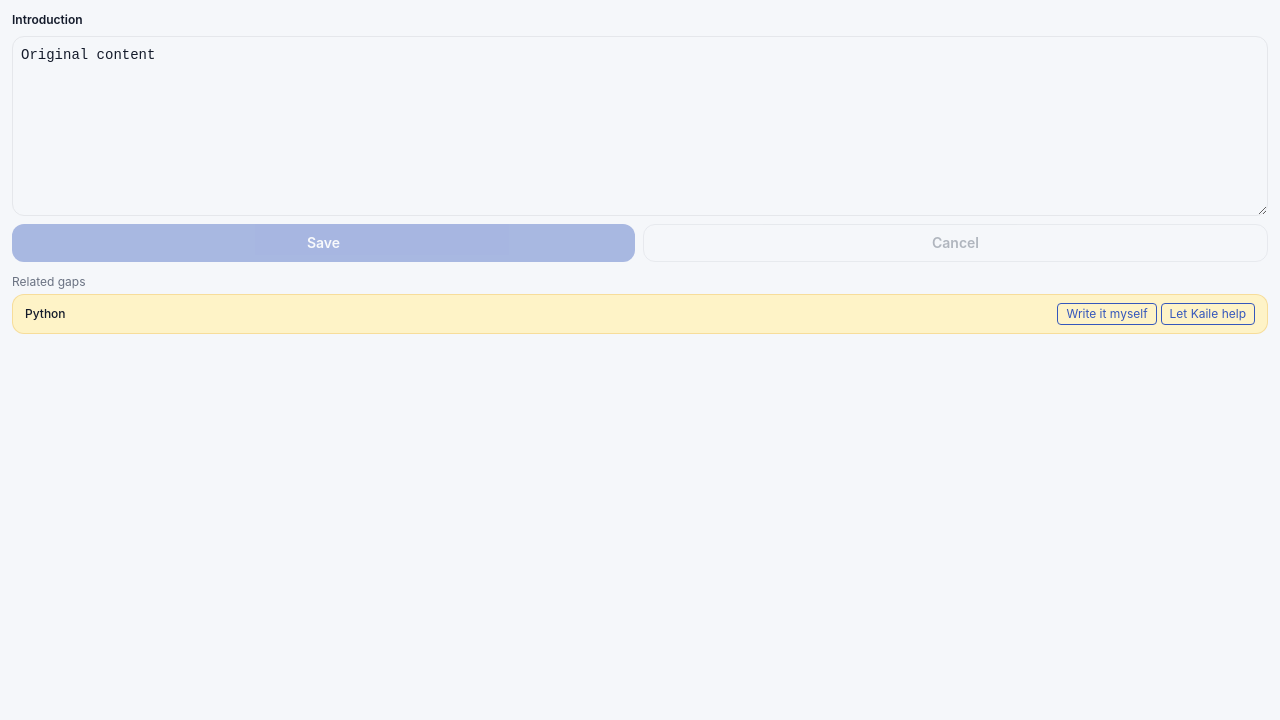
SectionEditor › Save shows scope prompt when no remembered choice
The image size is (1280, 720).
Replace the text in the text box with test id "section-textarea" with "New content" at coordinates (640, 126), box [12,36,1268,216]
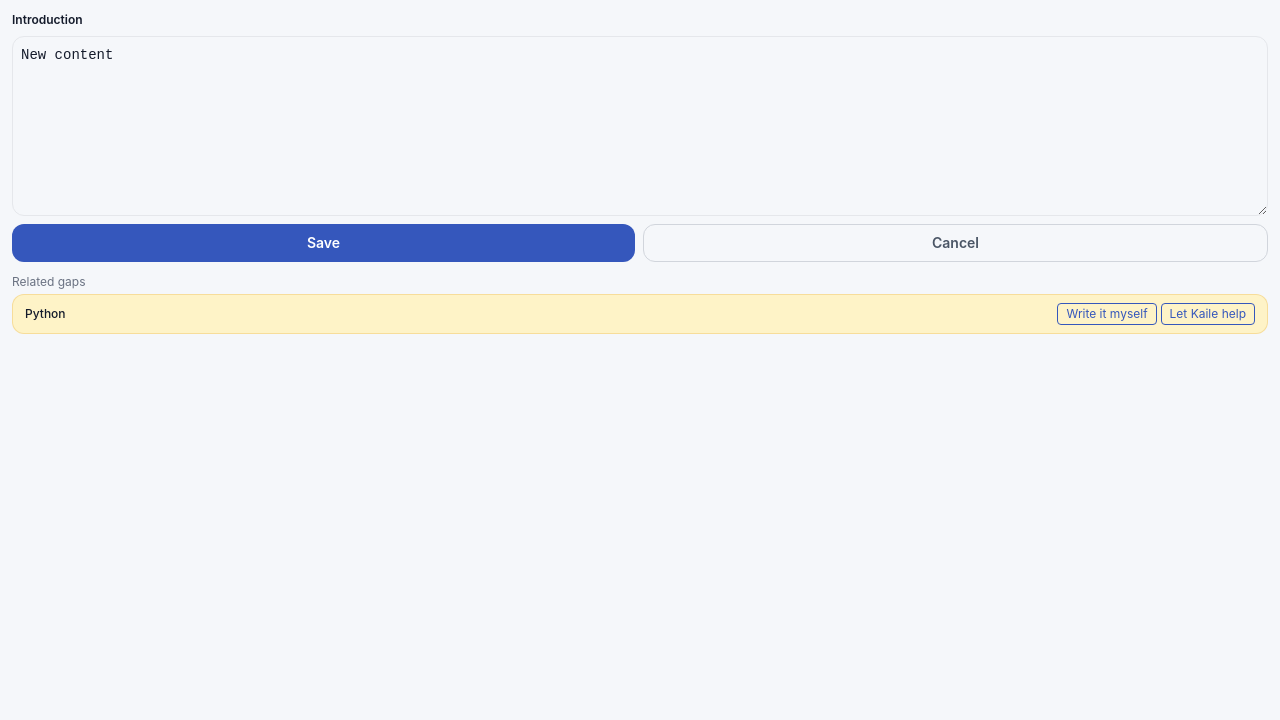
Click the button with test id "section-save".
click(324, 243)  # box [12,224,635,262]
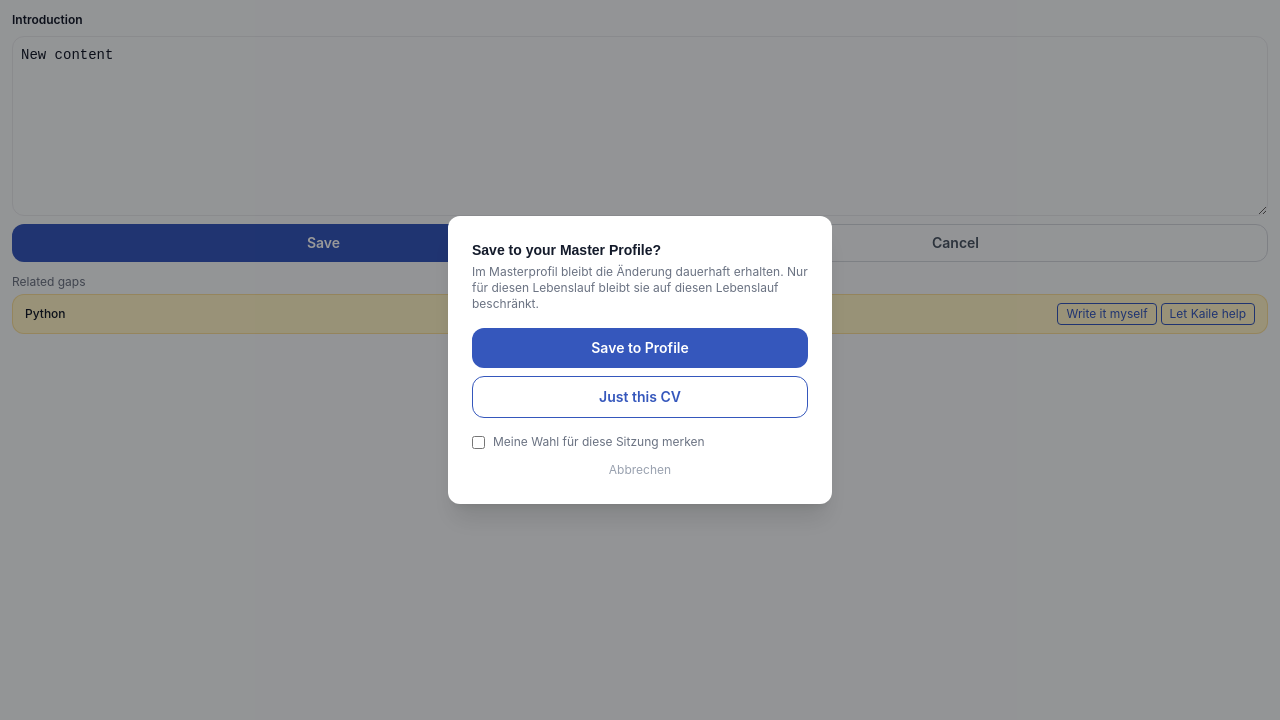
Result: the button with test id "save-cv-only-btn" is shown at [472,376,808,418]
Result: the button with test id "save-to-profile-btn" is shown at [472,328,808,368]
